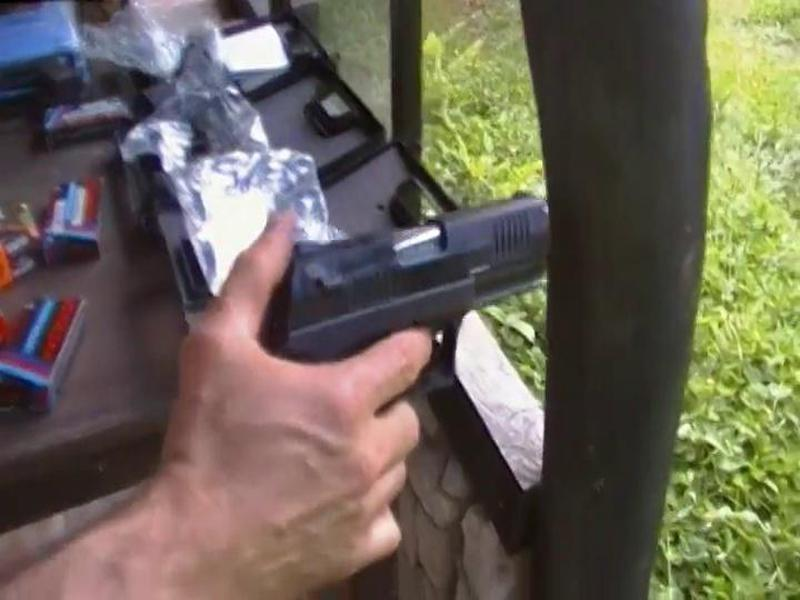Pistola: (233, 189, 604, 407)
